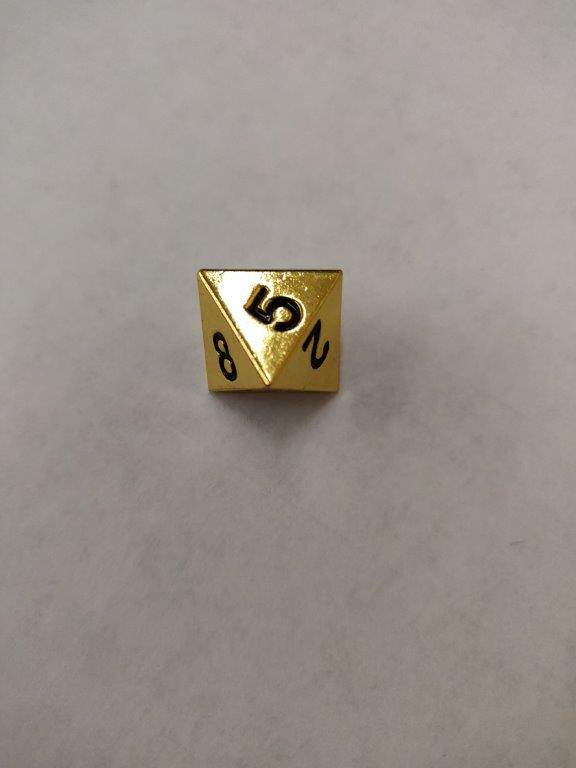d8-5: (197, 269, 343, 399)
